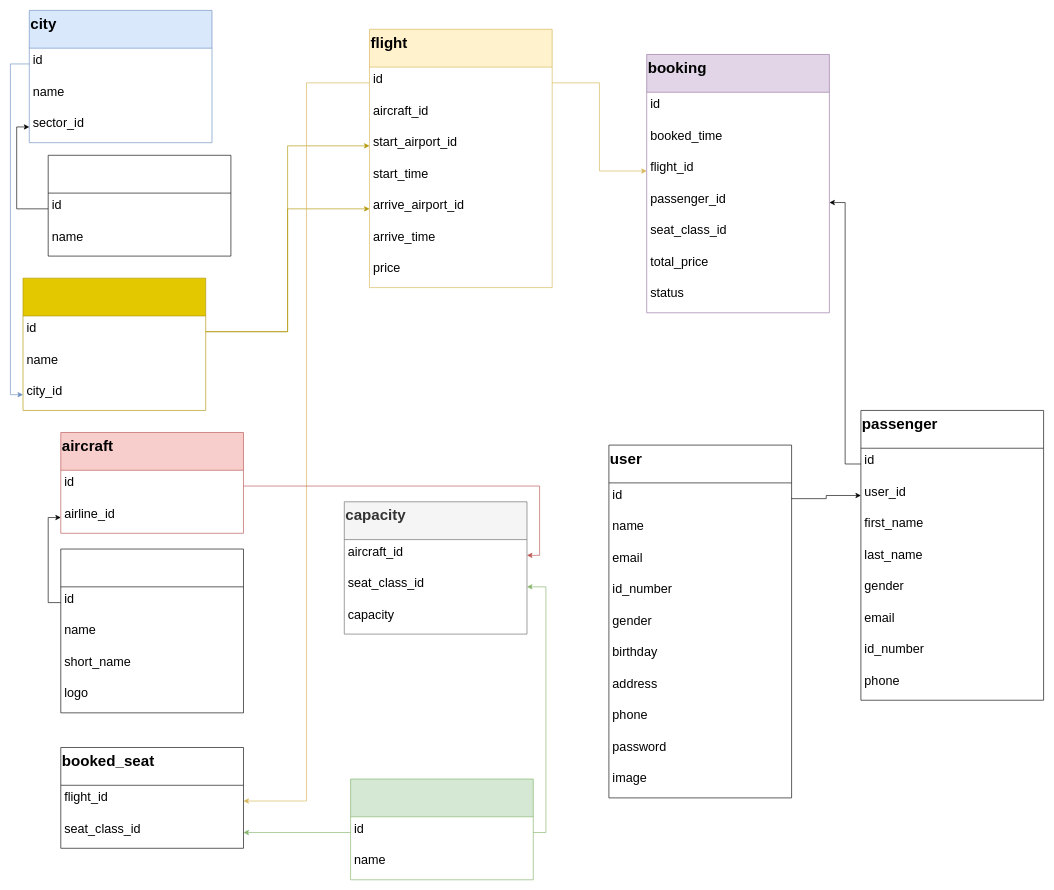
The diagram is 1054 pixels wide and 890 high, and some of its shapes have lost their labels. Each missing label, with the box of its shape:
airline: (60, 548, 243, 713)
airport: (22, 278, 206, 410)
seat_class: (350, 778, 533, 880)
sector: (48, 155, 231, 256)
